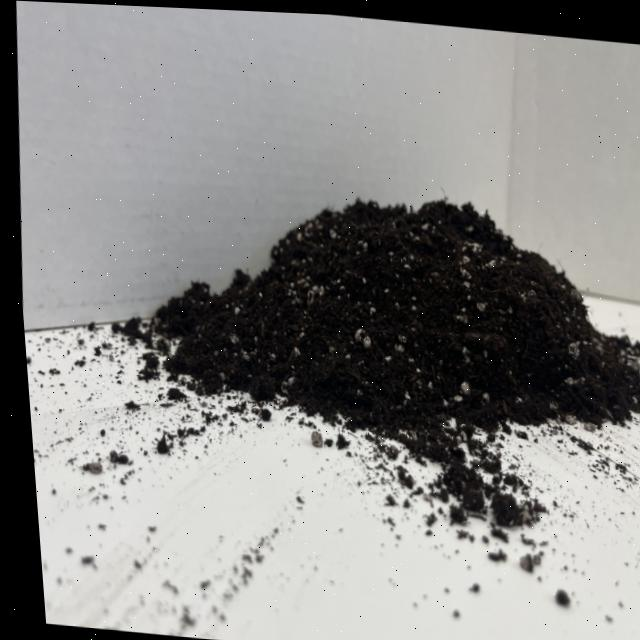soil: (128, 162, 640, 475)
